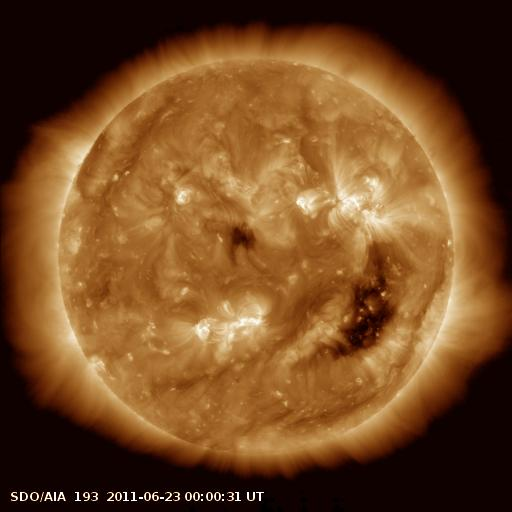coronal_hole: (299, 271, 408, 366), (220, 220, 261, 255)
